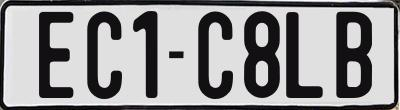1: (133, 8, 164, 95)
8: (244, 10, 282, 102)
B: (336, 10, 376, 100)
C: (197, 11, 236, 103), (84, 8, 120, 102)
E: (36, 9, 70, 97)
L: (285, 9, 323, 98)
